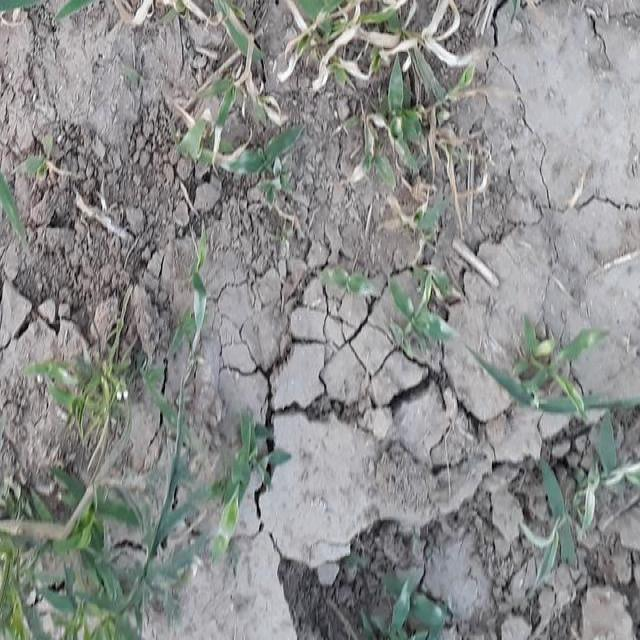weed: (157, 0, 499, 184), (0, 409, 196, 640)
